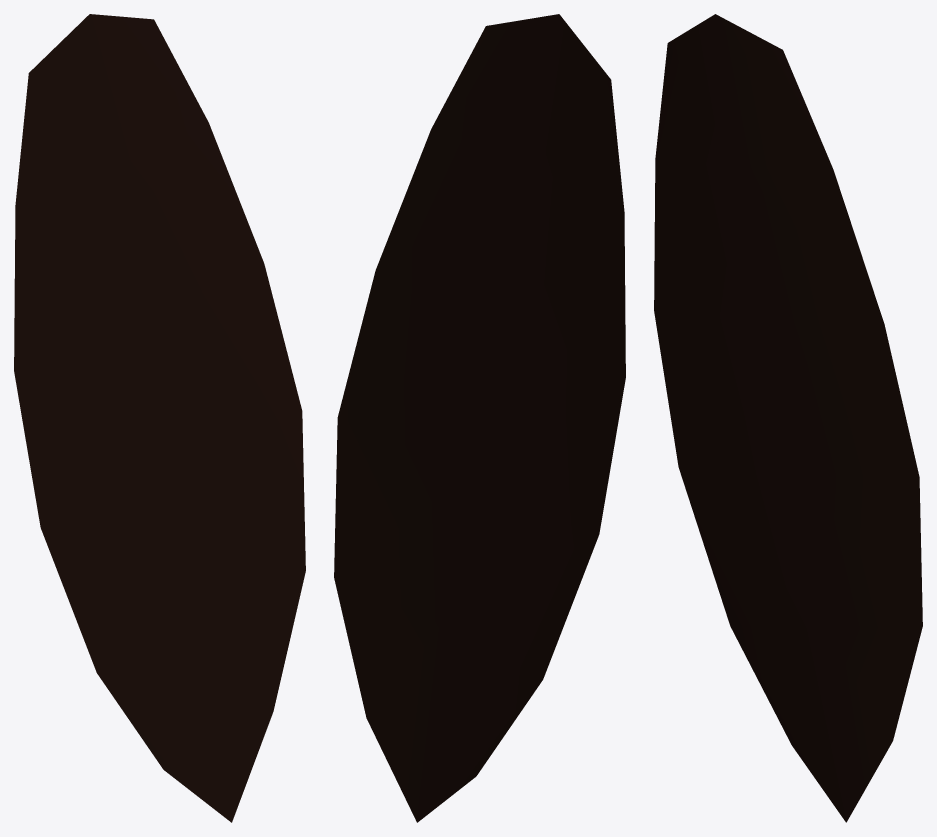
Rendered from hen_feather_flight_secondary_008.obj.
3 views of the same model, side by side, from view 1: azimuth 30°, elevation 25°; view 2: azimuth 150°, elevation 25°; view 3: azimuth 330°, elevation 25° (orthographic). The views are drawn at different scales.
Parts seen in each view (by area): view 1: feather_flight_secondary_008; view 2: feather_flight_secondary_008; view 3: feather_flight_secondary_008.
Part boxes in pixels (x1,y1,x2,y2): feather_flight_secondary_008: (14, 14, 305, 822); feather_flight_secondary_008: (334, 14, 625, 822); feather_flight_secondary_008: (654, 14, 922, 822).
Size of the model in its own units: 0.0195 by 0.0538 by 0.000524.
